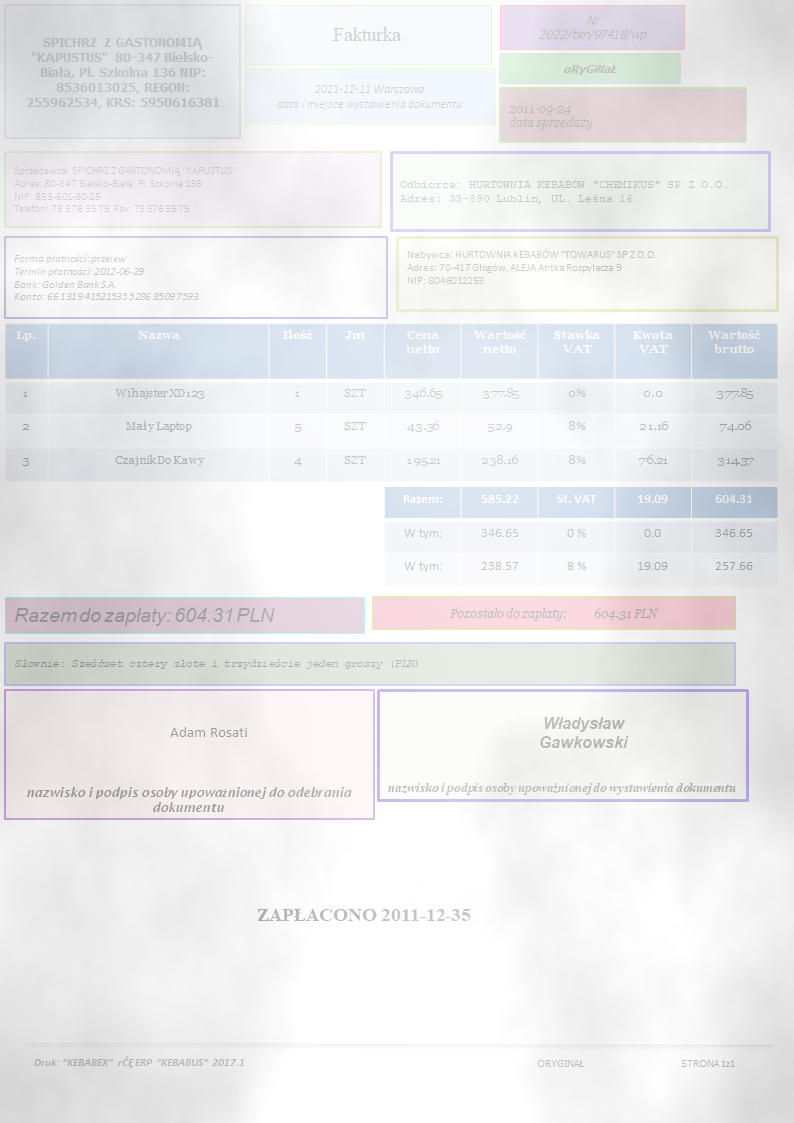Table: (4, 323, 778, 483), (384, 486, 778, 588)
TextBox: (23, 35, 222, 110), (12, 164, 238, 215), (398, 176, 730, 206), (404, 248, 659, 287), (23, 784, 353, 814), (12, 252, 201, 303), (385, 780, 738, 798), (10, 605, 280, 628), (12, 656, 422, 671), (272, 82, 464, 112), (254, 904, 475, 925), (446, 605, 660, 623), (534, 12, 649, 45), (538, 712, 630, 751), (31, 1055, 247, 1070), (506, 104, 595, 133), (330, 25, 403, 45), (166, 725, 249, 740), (560, 61, 619, 78), (678, 1058, 736, 1071), (534, 1057, 585, 1070)
